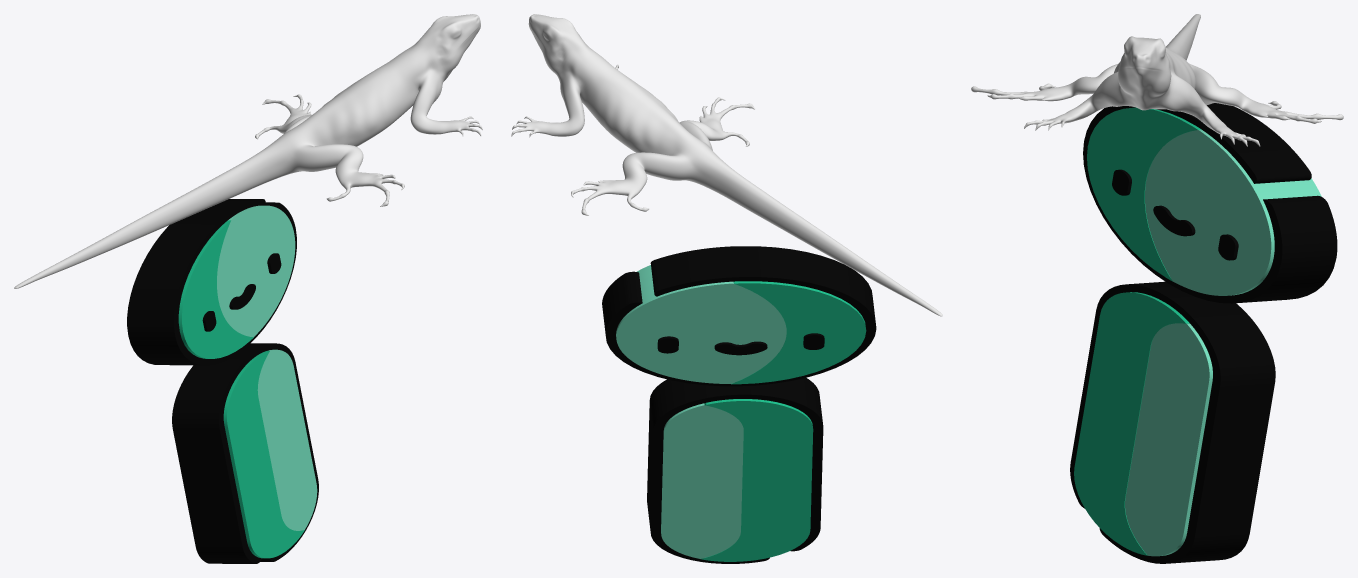
The model's file is iaga.glb.
3 views of the same model, side by side, from view 1: azimuth 30°, elevation 25°; view 2: azimuth 150°, elevation 25°; view 3: azimuth 270°, elevation 25° (orthographic). The views are drawn at different scales.
Visible parts, largest first — view 1: 10668_Iguana_v2, Curve.004, Curve.005, Curve.001, Curve.002, Curve, Curve.003; view 2: 10668_Iguana_v2, Curve.002, Curve.001, Curve, Curve.005, Curve.004, Curve.003, Curve.008; view 3: Curve.004, Curve.002, Curve, Curve.001, Curve.005, 10668_Iguana_v2, Curve.003, Curve.008.
Boxes of the visible parts, box(x1,y1,x2,y2) form: 10668_Iguana_v2: box(14, 14, 482, 288); Curve.004: box(172, 343, 318, 563); Curve.005: box(127, 199, 296, 365); Curve.001: box(223, 350, 304, 558); Curve.002: box(217, 205, 295, 337); Curve: box(257, 349, 317, 530); Curve.003: box(178, 220, 253, 358); 10668_Iguana_v2: box(511, 14, 942, 316); Curve.002: box(616, 265, 786, 383); Curve.001: box(700, 399, 813, 561); Curve: box(661, 403, 743, 558); Curve.005: box(602, 246, 876, 386); Curve.004: box(647, 378, 823, 563); Curve.003: box(731, 281, 866, 384); Curve.008: box(714, 341, 767, 355); Curve.004: box(1070, 281, 1275, 563); Curve.002: box(1145, 129, 1321, 295); Curve: box(1125, 323, 1212, 556); Curve.001: box(1074, 292, 1189, 555); Curve.005: box(1083, 103, 1337, 303); 10668_Iguana_v2: box(971, 14, 1343, 146); Curve.003: box(1087, 107, 1201, 281); Curve.008: box(1153, 205, 1195, 236).
Size of the model in its own units: 3.85 by 4.11 by 2.2.
